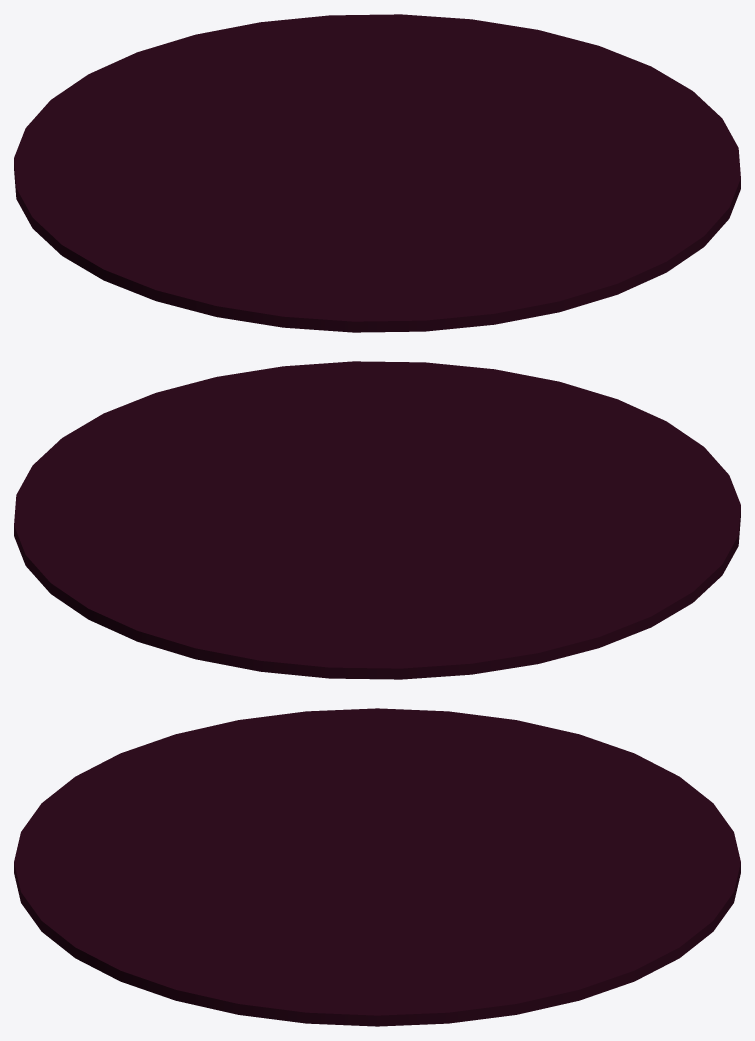
Rendered from Rug_Fusia.fbx.
3 views of the same model, one above another, from view 1: azimuth 30°, elevation 25°; view 2: azimuth 150°, elevation 25°; view 3: azimuth 270°, elevation 25° (orthographic).
Parts seen in each view (by area): view 1: Cylinder002; view 2: Cylinder002; view 3: Cylinder002.
Boxes of the visible parts, x1,y1,x2,y2 form: Cylinder002: (14, 14, 740, 332); Cylinder002: (14, 361, 740, 679); Cylinder002: (14, 708, 740, 1026).
Bounding box in the file's own units: 96.34 × 1.6 × 96.34.
